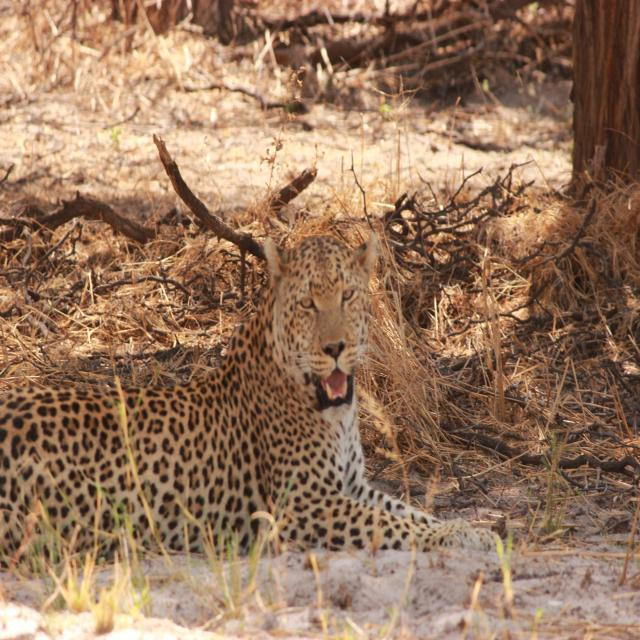Leopard: (0, 206, 511, 588)
